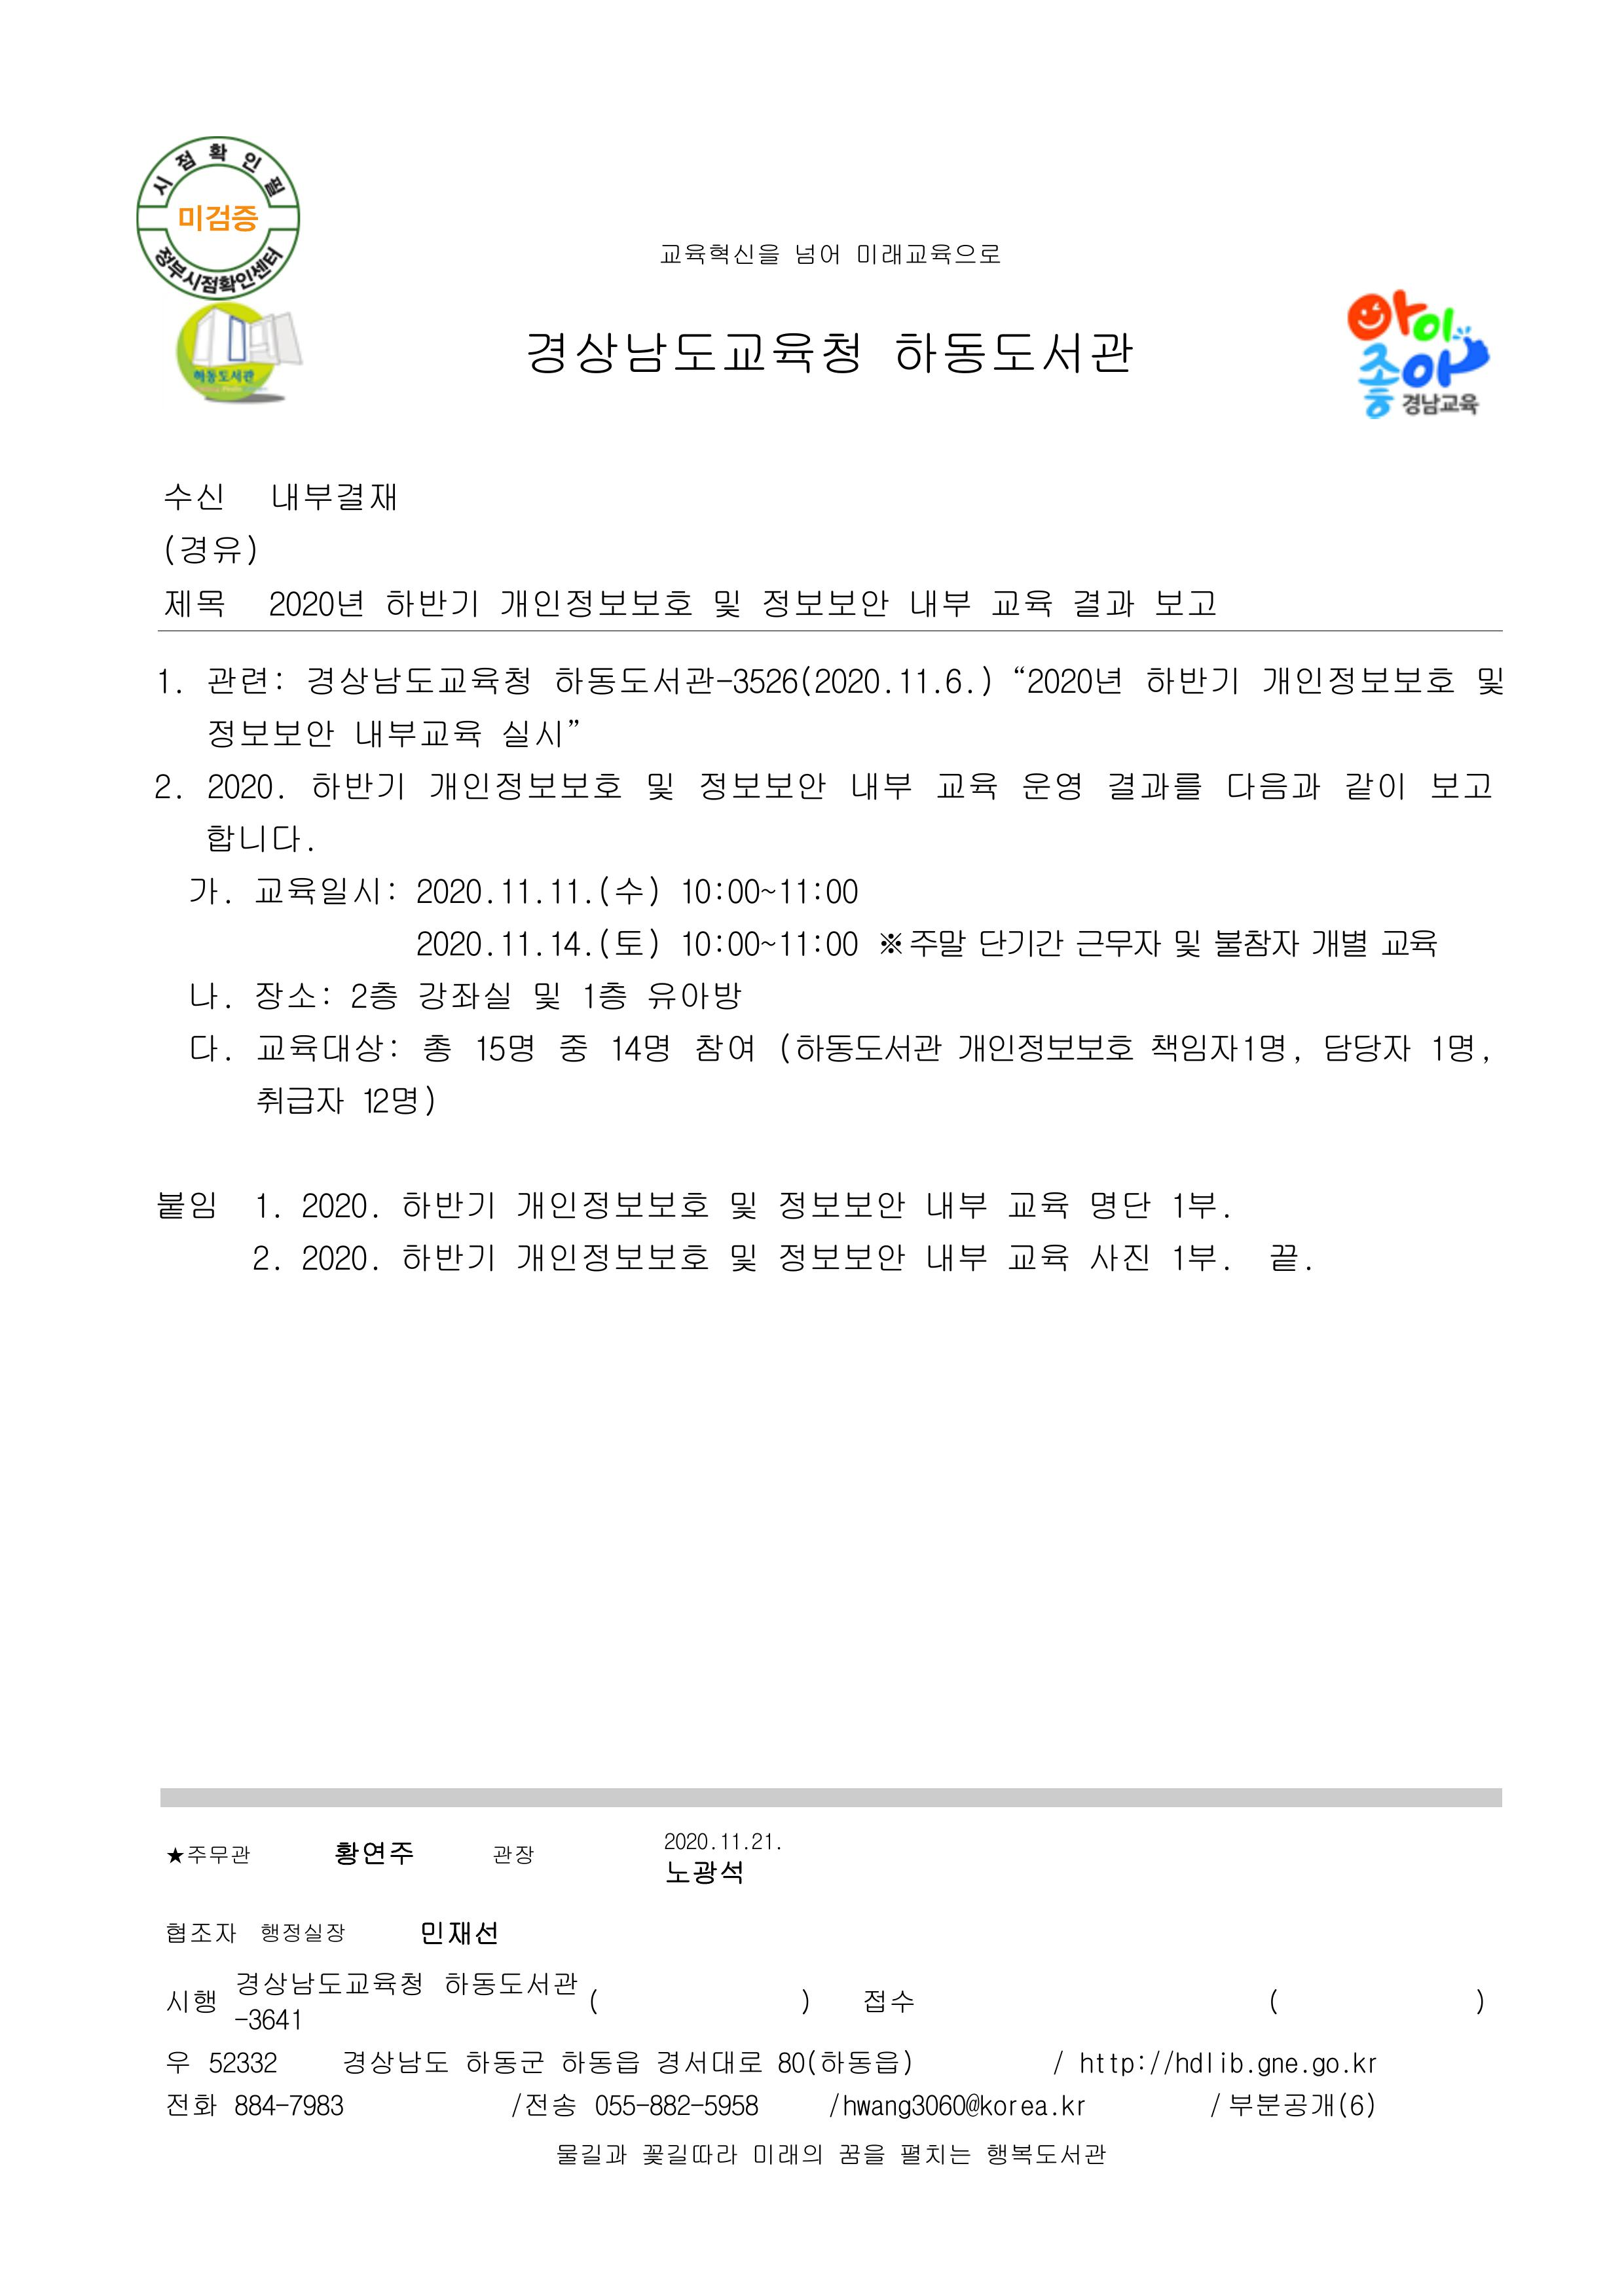t: (523, 329, 864, 380), (1341, 287, 1488, 397), (893, 329, 1137, 380), (552, 663, 896, 699), (304, 663, 530, 699), (513, 1237, 710, 1276), (426, 767, 623, 803), (513, 1186, 710, 1222), (1259, 663, 1456, 699), (498, 584, 692, 620), (232, 1965, 423, 2000), (678, 925, 860, 961), (953, 1029, 1133, 1065), (774, 1029, 943, 1065), (842, 2094, 1050, 2123), (498, 875, 663, 911), (1226, 2087, 1377, 2123), (254, 1029, 401, 1065), (1147, 1029, 1295, 1065), (254, 871, 397, 907), (268, 477, 397, 516), (774, 2044, 914, 2080), (350, 717, 480, 756), (756, 584, 889, 620), (695, 767, 828, 803), (774, 1186, 907, 1222), (774, 1240, 907, 1276), (204, 717, 337, 753), (441, 1968, 581, 2000), (1008, 659, 1124, 696), (161, 530, 258, 570), (204, 821, 308, 856), (853, 244, 1000, 268), (308, 767, 409, 803), (494, 925, 595, 961), (397, 1186, 498, 1222), (397, 1240, 498, 1276), (982, 2140, 1108, 2169), (265, 584, 365, 620), (1223, 767, 1323, 803), (341, 2047, 452, 2080), (652, 2047, 764, 2080), (893, 663, 993, 699), (412, 979, 513, 1014), (383, 584, 480, 620), (1104, 767, 1201, 803), (645, 979, 742, 1014), (1144, 663, 1240, 699), (975, 925, 1069, 961), (254, 1082, 348, 1118), (875, 925, 968, 961), (1208, 925, 1301, 961), (1319, 1029, 1412, 1065), (1072, 925, 1162, 961), (678, 875, 778, 907), (555, 2044, 642, 2080), (659, 244, 781, 268), (175, 200, 258, 236), (204, 663, 287, 699), (251, 979, 333, 1014), (642, 2140, 742, 2169), (358, 1082, 437, 1118), (297, 1186, 377, 1222), (502, 717, 577, 753), (204, 767, 280, 803), (412, 925, 487, 961), (297, 1240, 380, 1273), (663, 1857, 746, 1890), (412, 875, 494, 907), (333, 1836, 416, 1868), (462, 2047, 545, 2080), (258, 1918, 348, 1947), (1069, 584, 1137, 620), (921, 1186, 989, 1222), (1004, 1186, 1072, 1222), (1086, 1186, 1154, 1222), (555, 2137, 631, 2169), (896, 2137, 972, 2169), (1398, 390, 1481, 419), (416, 1918, 498, 1947), (161, 584, 226, 620), (907, 584, 972, 620), (989, 584, 1054, 620), (1151, 584, 1215, 620), (846, 767, 911, 803), (1427, 767, 1492, 803), (1305, 925, 1370, 961), (473, 1029, 538, 1065), (692, 1029, 756, 1065), (154, 1186, 219, 1222), (921, 1240, 986, 1276), (1018, 767, 1082, 803), (1341, 767, 1405, 803), (595, 925, 659, 961), (1075, 2047, 1147, 2080), (936, 767, 997, 803), (1165, 1186, 1226, 1222), (168, 1843, 254, 1868), (792, 875, 860, 907), (749, 2140, 824, 2169), (1004, 1240, 1069, 1273), (204, 2047, 280, 2076), (348, 975, 401, 1014), (1086, 1240, 1151, 1273), (606, 1033, 671, 1065), (506, 2090, 577, 2119), (164, 480, 226, 513), (1377, 925, 1438, 957), (1169, 1240, 1223, 1276), (577, 979, 631, 1014), (164, 1922, 240, 1947), (1424, 1033, 1481, 1065), (699, 2090, 760, 2119), (287, 2090, 348, 2119), (164, 1987, 219, 2019), (236, 2008, 304, 2033), (836, 2137, 885, 2169), (186, 871, 229, 907), (860, 1987, 914, 2015), (186, 1029, 226, 1065), (164, 2094, 222, 2119), (1266, 1240, 1305, 1276), (591, 2090, 638, 2119), (645, 2090, 692, 2119), (1162, 2051, 1215, 2076), (1169, 925, 1205, 961), (724, 1186, 760, 1222), (724, 1240, 760, 1276), (530, 979, 566, 1014), (720, 1832, 778, 1854), (190, 982, 232, 1011), (419, 1029, 452, 1065), (555, 1029, 588, 1065), (232, 2094, 280, 2119), (796, 244, 842, 268), (1255, 2055, 1301, 2080), (663, 1832, 713, 1854), (251, 1240, 283, 1273), (710, 588, 742, 620), (642, 771, 674, 803), (491, 1846, 534, 1868), (1473, 667, 1502, 699), (1308, 2055, 1344, 2080), (254, 1194, 283, 1222), (1215, 2047, 1244, 2076), (154, 774, 179, 803), (1352, 2051, 1380, 2076), (157, 670, 179, 695), (168, 2051, 190, 2076), (1061, 2097, 1086, 2119), (778, 878, 796, 907), (1366, 401, 1391, 419)
